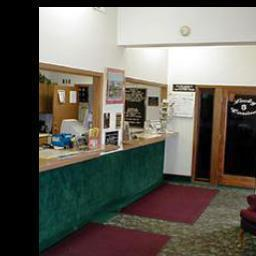Puerta: (217, 88, 256, 188)
